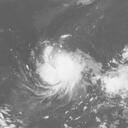cyclone: (28, 42, 92, 97)
